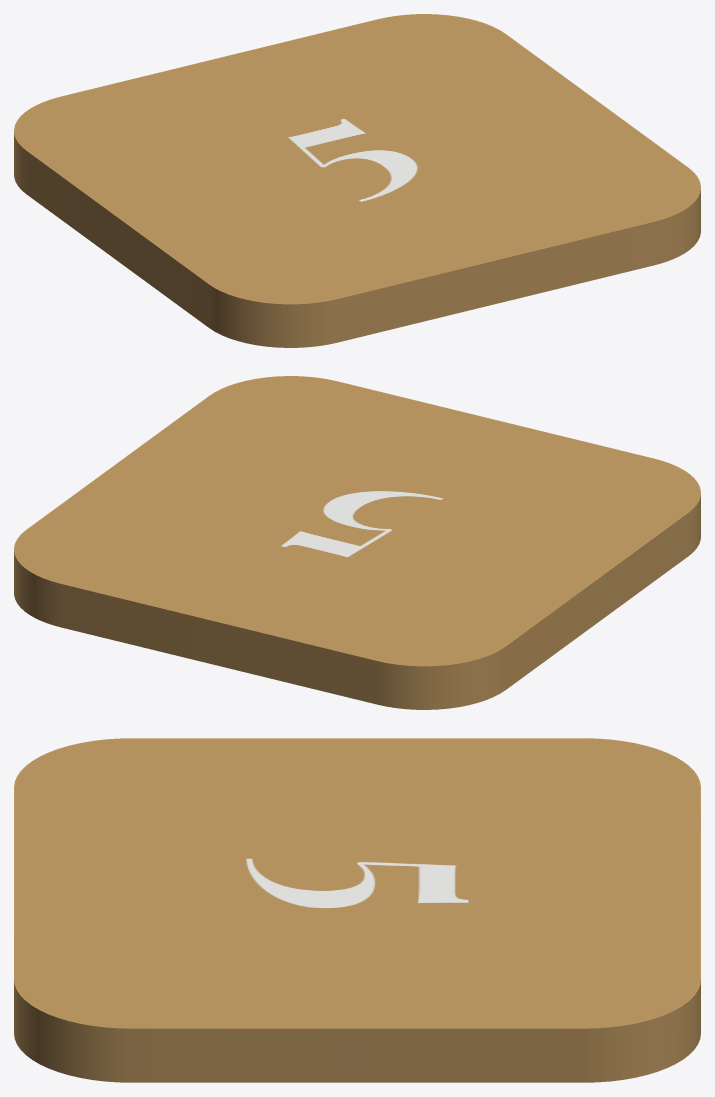
The picture shows the model from 3 angles, top to bottom: view 1: azimuth 30°, elevation 25°; view 2: azimuth 150°, elevation 25°; view 3: azimuth 270°, elevation 25°; orthographic projection. The views are drawn at different scales.
Visible parts, largest first — view 1: sq_5; view 2: sq_5; view 3: sq_5.
Boxes of the visible parts, bbox=[...] form: sq_5: bbox=[14, 14, 700, 347]; sq_5: bbox=[14, 376, 700, 709]; sq_5: bbox=[14, 738, 700, 1082].
Size of the model in its own units: 0.0276 by 0.0024 by 0.0276.
Materials: 3 (2 with a texture image).
